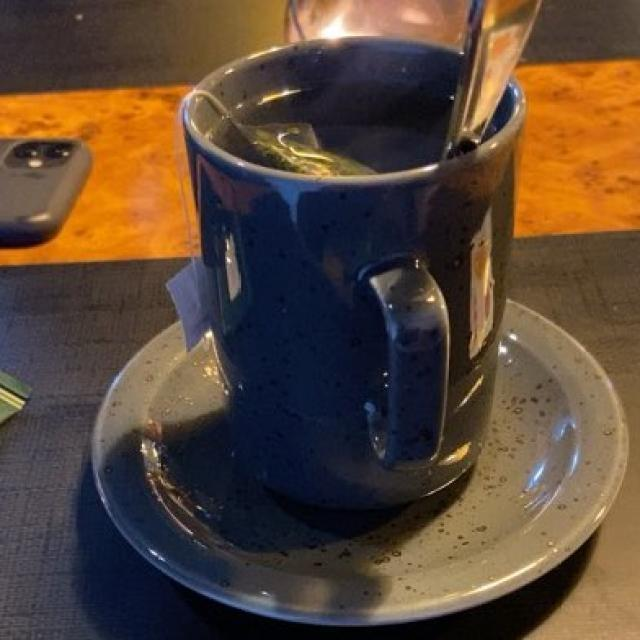tea: (221, 55, 464, 174)
